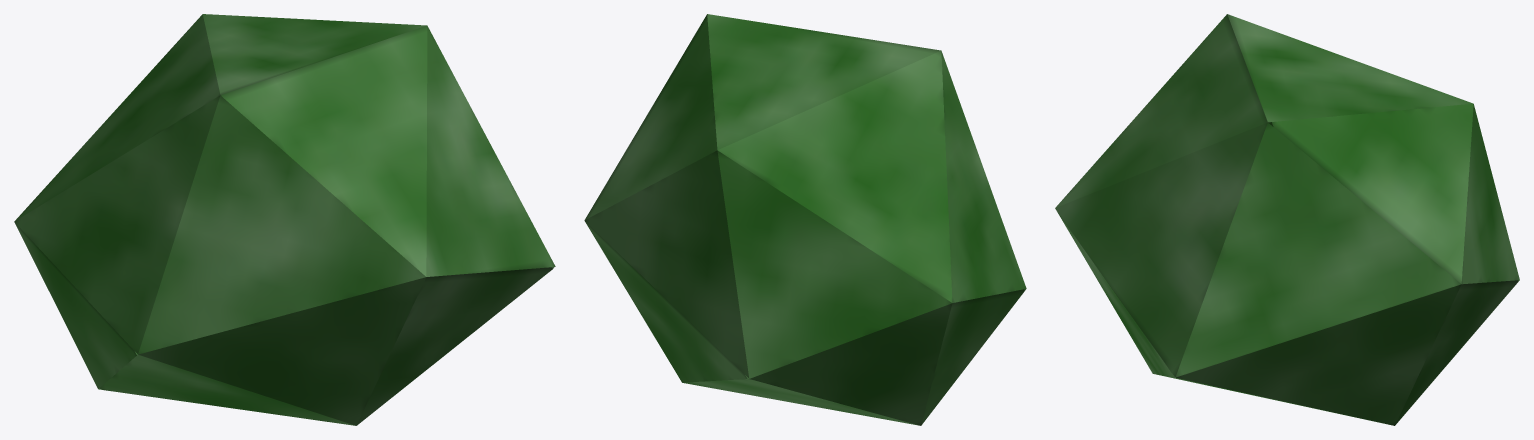
File: bush3_fbx.fbx
3 renders of one model, left to right at view 1: azimuth 30°, elevation 25°; view 2: azimuth 150°, elevation 25°; view 3: azimuth 270°, elevation 25°, orthographic. The views are drawn at different scales.
Parts seen in each view (by area): view 1: Bush3; view 2: Bush3; view 3: Bush3.
Boxes of the visible parts, x1,y1,x2,y2 form: Bush3: (14,14,555,425); Bush3: (584,14,1026,425); Bush3: (1055,14,1519,425).
Bounding box in the file's own units: 182 × 140 × 183.
Materials: 1 (1 with a texture image).
